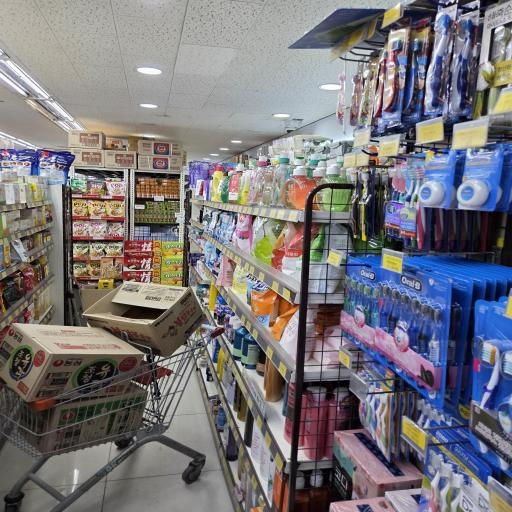fully_cart: (0, 270, 248, 510)
